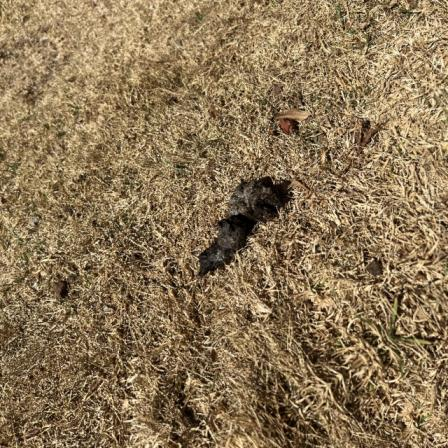dog-poop: (198, 172, 288, 277)
